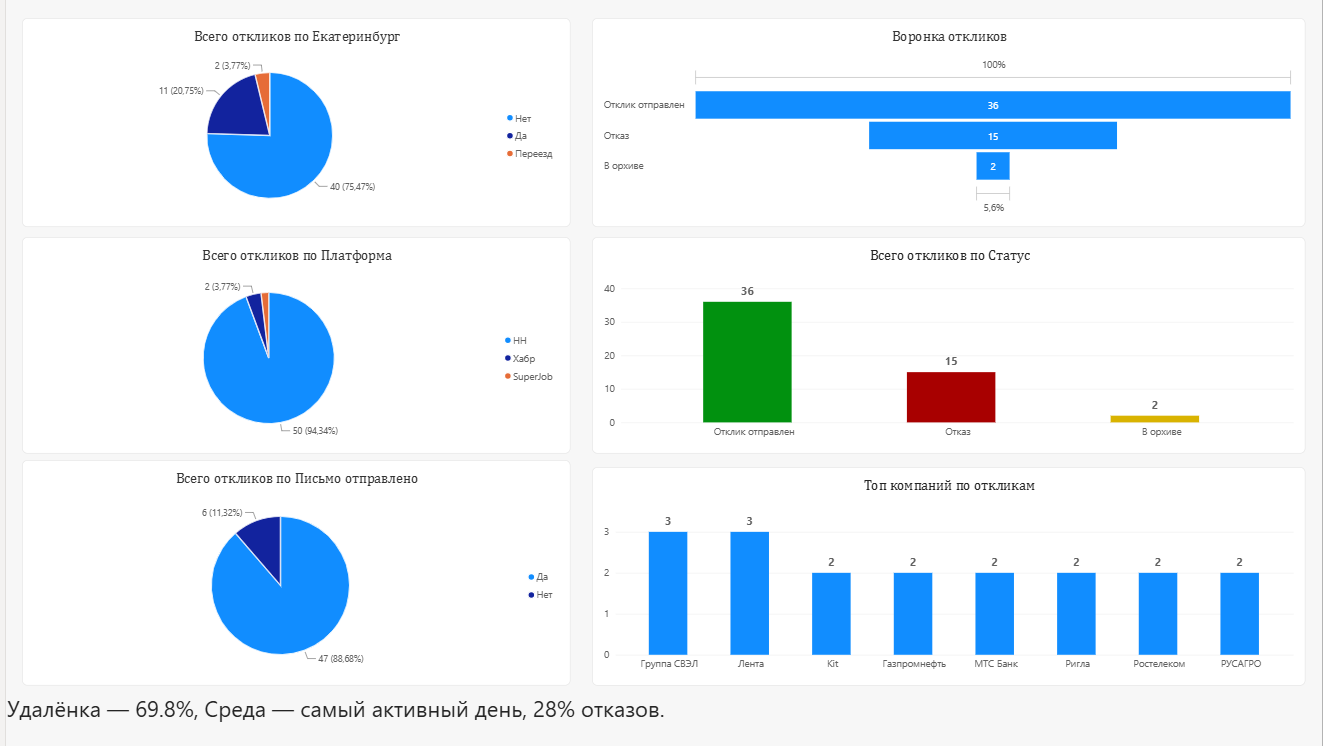

The page's visual inventory and layout, read from the dashboard file:
{"tool":"powerbi","page":{"name":"Детализация","canvas":[1920,1080],"ordinal":1},"visuals":[{"type":"pieChart","fields":{"Category":["Таблица откликов.Екатеринбург"],"Y":["DAX.Всего откликов"]},"box":[24.8,26.3,795.1,303.5],"z":0},{"type":"pieChart","fields":{"Category":["Таблица откликов.Платформа"],"Y":["DAX.Всего откликов"]},"box":[24.8,342.9,795.1,313.7],"z":1000},{"type":"pieChart","fields":{"Category":["Таблица откликов.Письмо отправлено"],"Y":["DAX.Всего откликов"]},"box":[24.8,666.7,795.1,326.8],"z":2000},{"type":"columnChart","fields":{"Category":["Таблица откликов.Статус"],"Y":["DAX.Всего откликов"]},"box":[850.6,342.9,1034.4,313.7],"z":3000},{"type":"textbox","box":[2.9,1003.8,1866,59.8],"z":4000},{"type":"funnel","title":"Воронка откликов","fields":{"Category":["Таблица откликов.Статус"],"Y":["DAX.Всего откликов"]},"box":[850.6,26.3,1034.4,303.5],"z":5000},{"type":"columnChart","title":"Топ компаний по откликам","fields":{"Category":["Таблица откликов.Компания"],"Y":["DAX.Всего откликов"]},"box":[850,677.1,1034.3,317.1],"z":6000}]}

Visuals, with their boxes in screenshot pixels (x1, y1, x2, y2), scaled from the page's 1920x1080 canvas onto the 1323x746 screenshot:
pieChart - Таблица откликов.Екатеринбург x DAX.Всего откликов: locate(17, 18, 565, 228)
pieChart - Таблица откликов.Платформа x DAX.Всего откликов: locate(17, 237, 565, 454)
pieChart - Таблица откликов.Письмо отправлено x DAX.Всего откликов: locate(17, 461, 565, 686)
columnChart - Таблица откликов.Статус x DAX.Всего откликов: locate(586, 237, 1299, 454)
textbox: locate(2, 693, 1288, 735)
"Воронка откликов" funnel: locate(586, 18, 1299, 228)
"Топ компаний по откликам" columnChart: locate(586, 468, 1298, 687)
